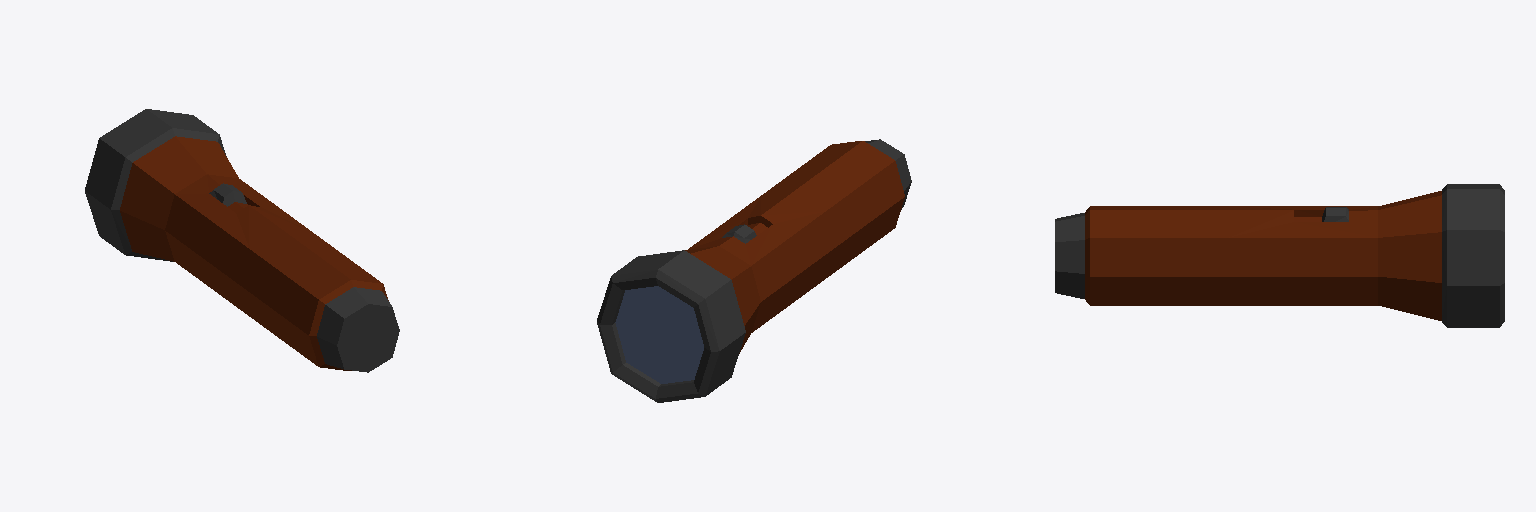
Rendered from flashlight.obj.
3 views of the same model, side by side, from view 1: azimuth 30°, elevation 25°; view 2: azimuth 150°, elevation 25°; view 3: azimuth 270°, elevation 25° (orthographic).
Visible parts, largest first — view 1: SM_Camping_Flashlight; view 2: SM_Camping_Flashlight; view 3: SM_Camping_Flashlight.
Boxes of the visible parts, <box> form: SM_Camping_Flashlight: <box>85,109,399,372</box>; SM_Camping_Flashlight: <box>597,139,911,402</box>; SM_Camping_Flashlight: <box>1055,184,1504,327</box>.
Bounding box in the file's own units: 0.1785 × 0.1852 × 0.5639.